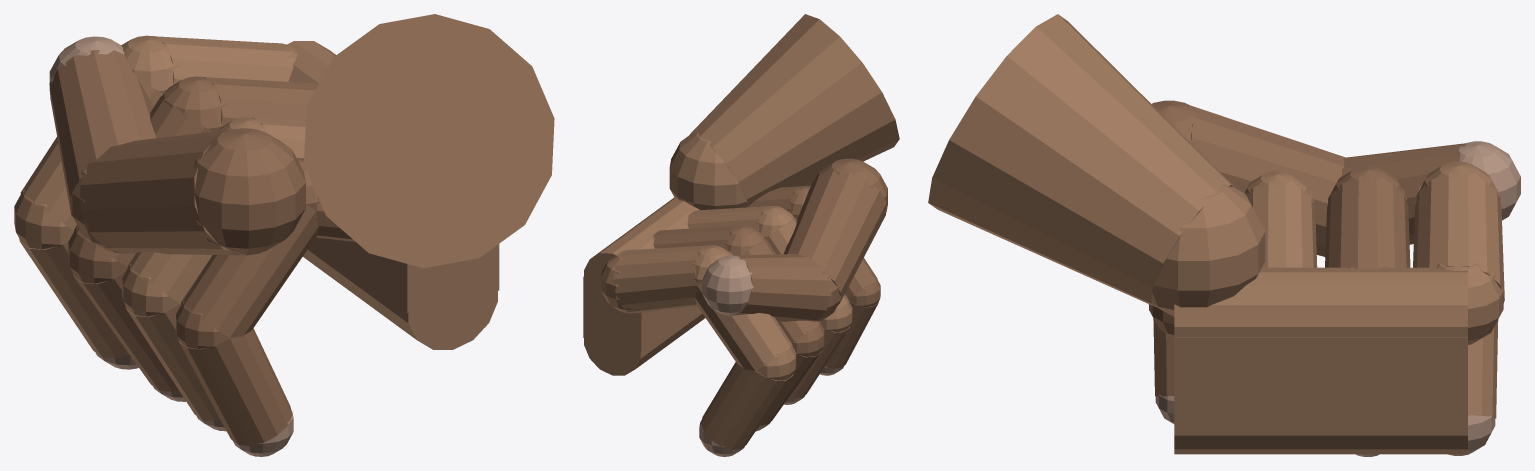
The model's file is hand_grip_right.glb.
3 views of the same model, side by side, from view 1: azimuth 30°, elevation 25°; view 2: azimuth 150°, elevation 25°; view 3: azimuth 270°, elevation 25° (orthographic). The views are drawn at different scales.
Parts seen in each view (by area): view 1: hand_grip_right; view 2: hand_grip_right; view 3: hand_grip_right.
Boxes of the visible parts, <box> form: hand_grip_right: <box>14,14,554,456</box>; hand_grip_right: <box>583,14,899,456</box>; hand_grip_right: <box>928,14,1520,456</box>.
Size of the model in its own units: 0.0726 by 0.104 by 0.121.
